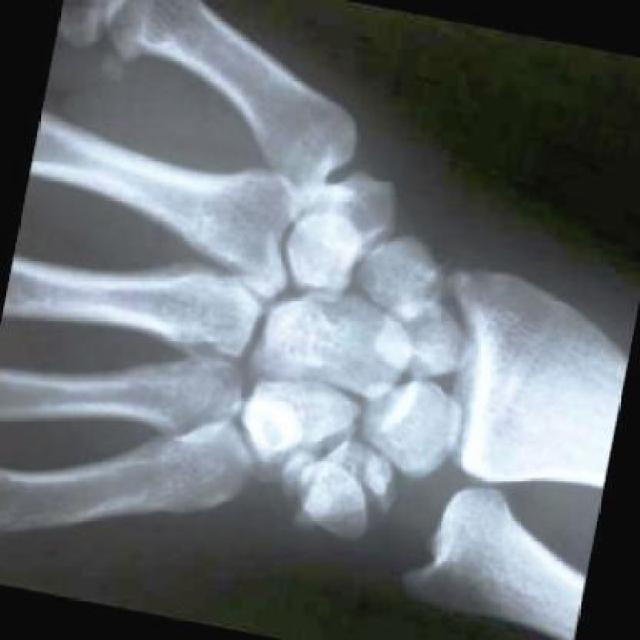bone: (396, 260, 453, 334)
